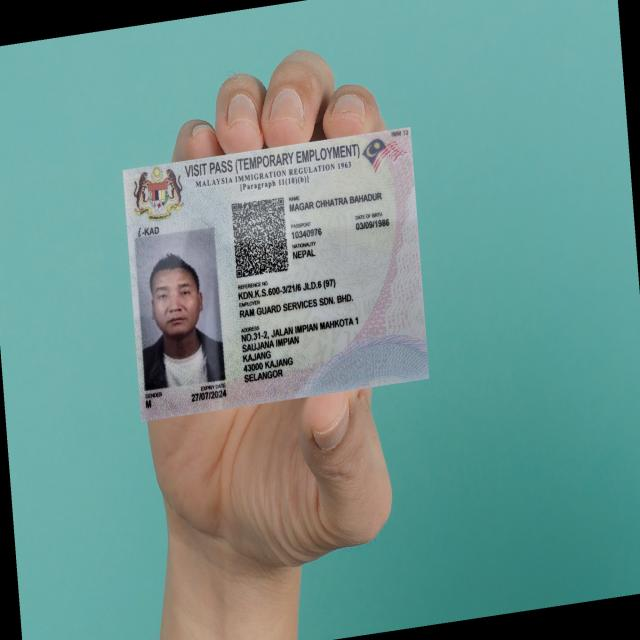ikad-temp: (122, 126, 430, 421)
